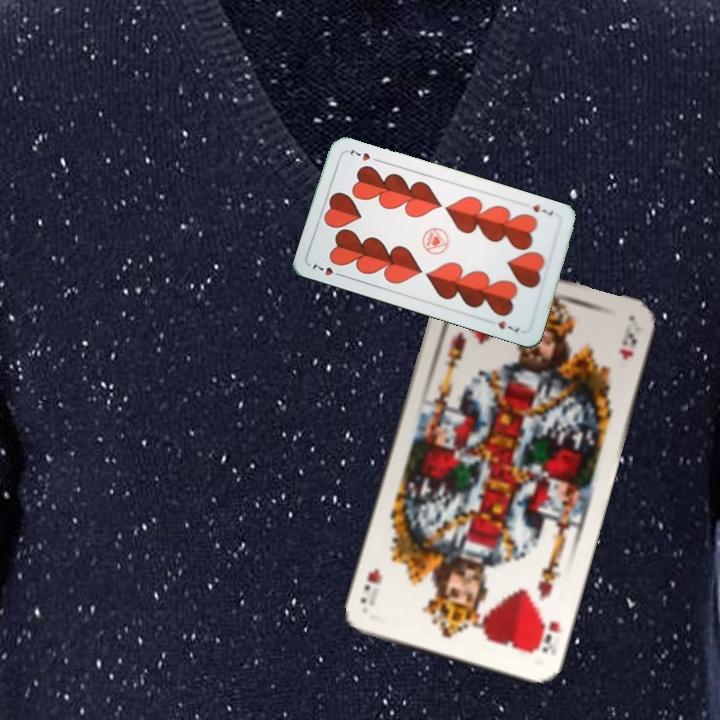H7: (308, 260, 347, 280), (529, 201, 556, 218)
HK: (530, 612, 563, 658)
